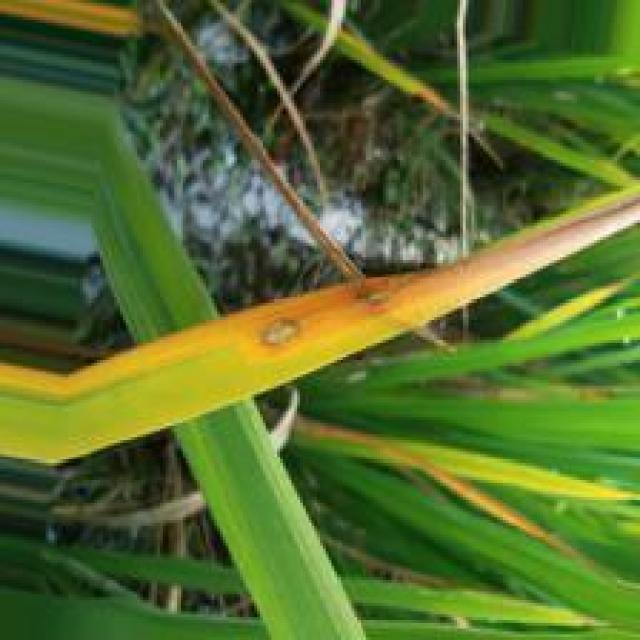Leaf_Scald: (412, 198, 639, 300), (344, 278, 403, 321), (254, 320, 304, 350)
